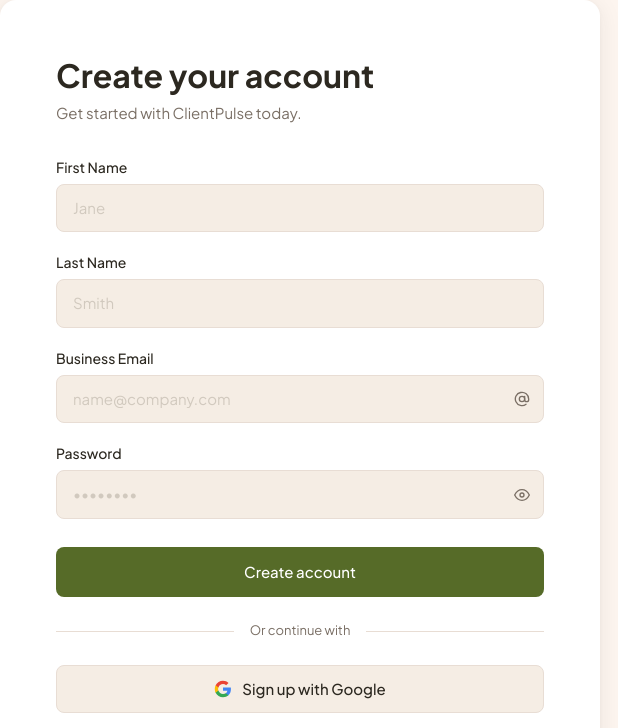
it: RegistrationForm › should show fallback error when no message is provided
The image size is (618, 728).
Click the button "Create account".
click(300, 572)  # box [56,547,544,597]
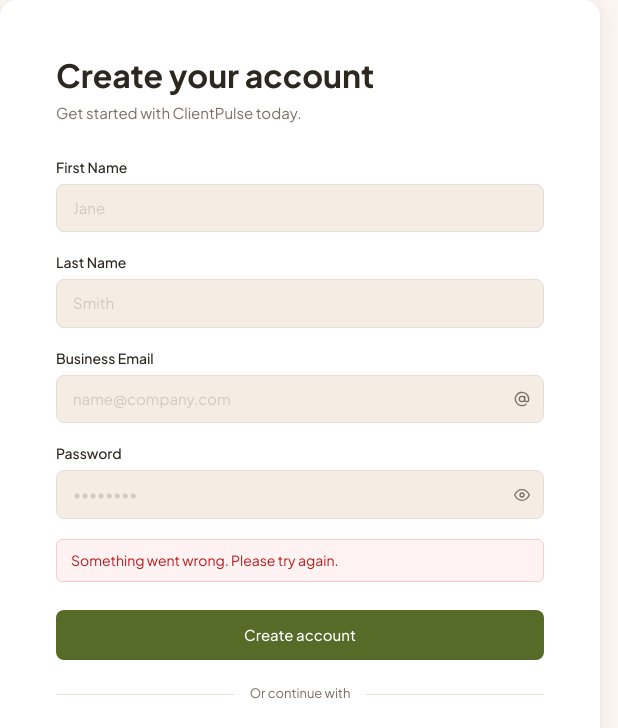
Check: the message reads "Something went wrong. Please try again.", box [71,551,338,569]
